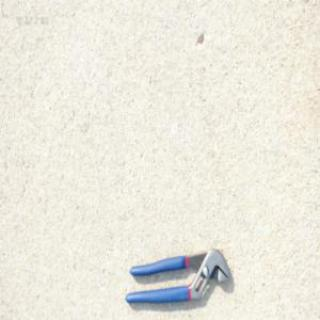Pliertrack_idkeyframe: (124, 245, 231, 303)
